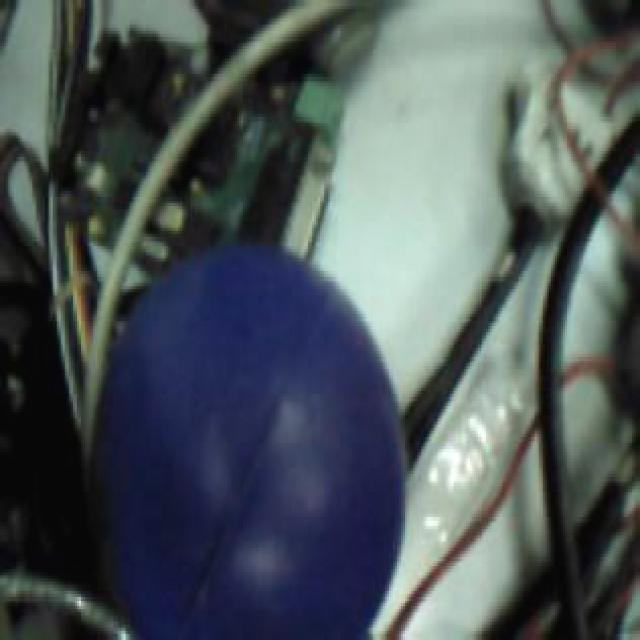BallPurple: (97, 243, 405, 640)
